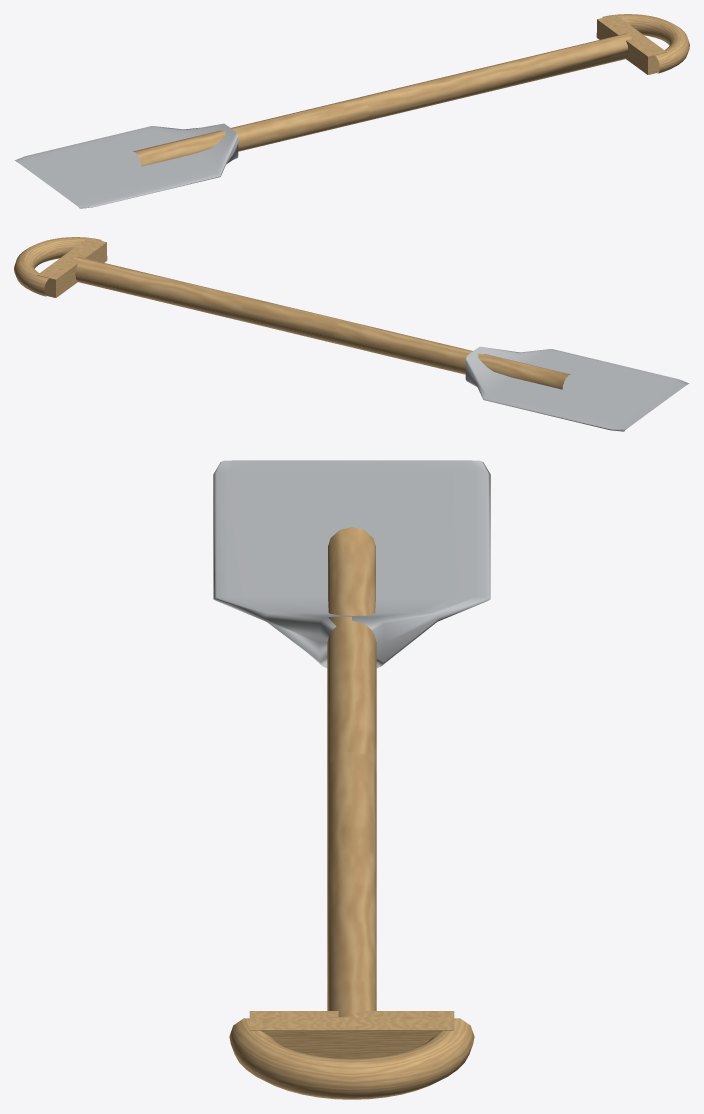
3 renders of one model, top to bottom at view 1: azimuth 30°, elevation 25°; view 2: azimuth 150°, elevation 25°; view 3: azimuth 270°, elevation 25°, orthographic. The views are drawn at different scales.
Visible parts, largest first — view 1: Spade; view 2: Spade; view 3: Spade.
Part boxes in pixels (x1,y1,x2,y2): Spade: [15, 14, 689, 208]; Spade: [14, 237, 688, 431]; Spade: [213, 460, 490, 1099].
Size of the model in its own units: 1 by 0.04 by 0.19.
Materials: 2 (1 with a texture image).
